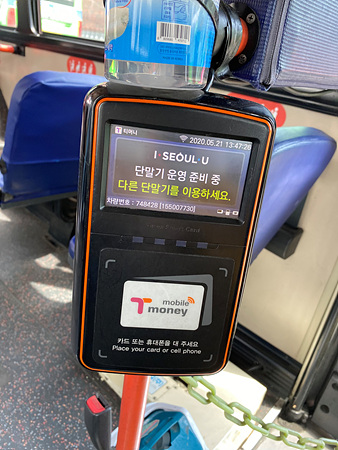terminal: (88, 88, 242, 373)
